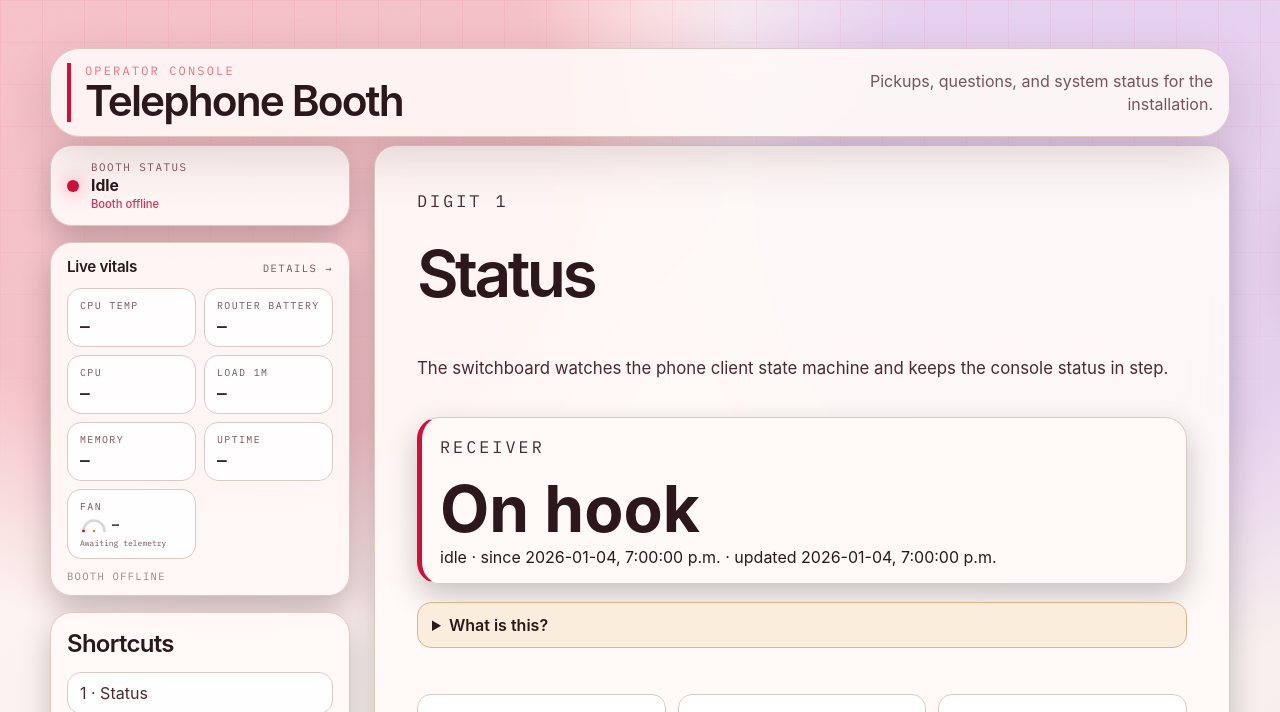
Status feature › opens the state-machine help
Click the heading "What is this?" at (498, 625), box [449,615,548,635]
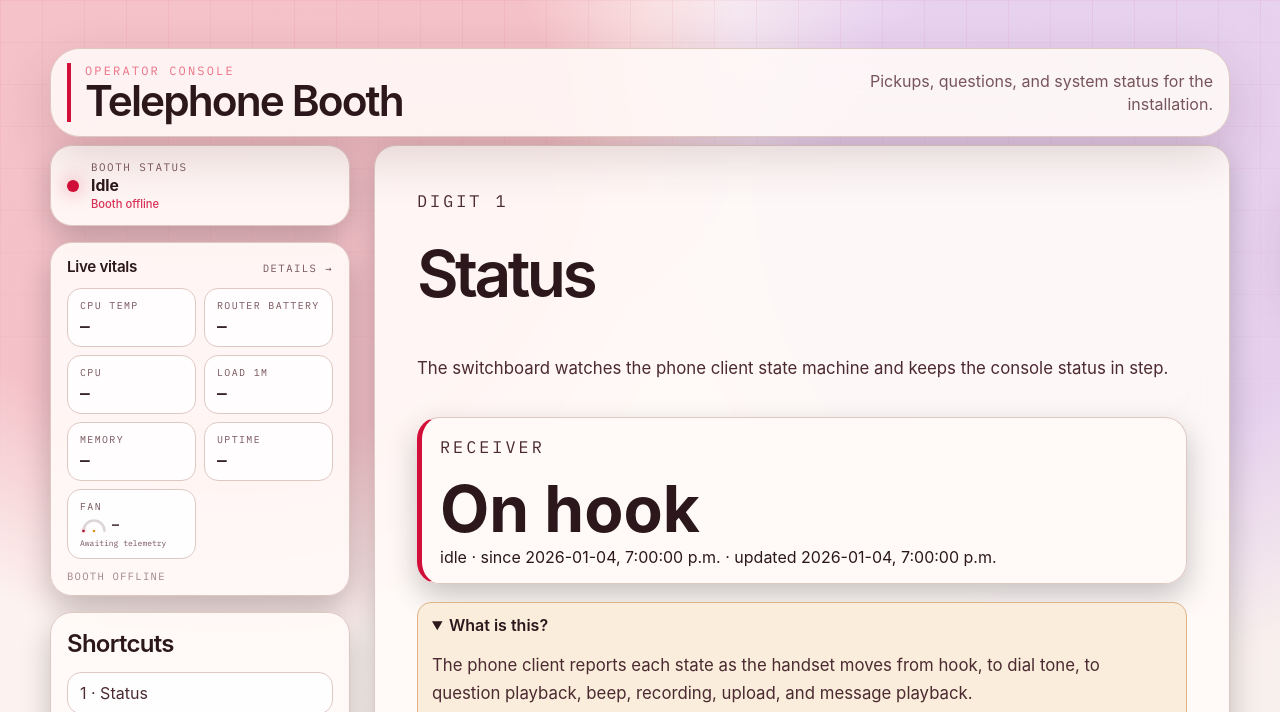
Expected: the text "dial tone" is shown, [432,655,1100,703]
